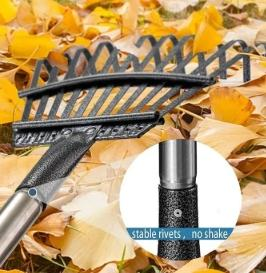RATEAU: (0, 21, 266, 273)
